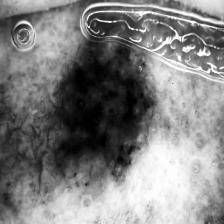Benign Marking or Mole: (49, 48, 153, 178)
